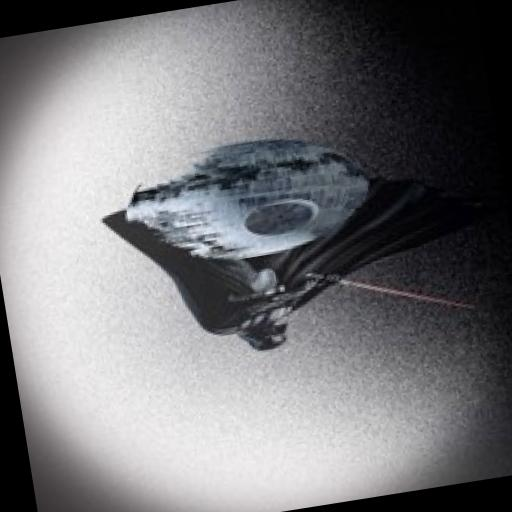sith saber: (294, 242, 479, 340)
